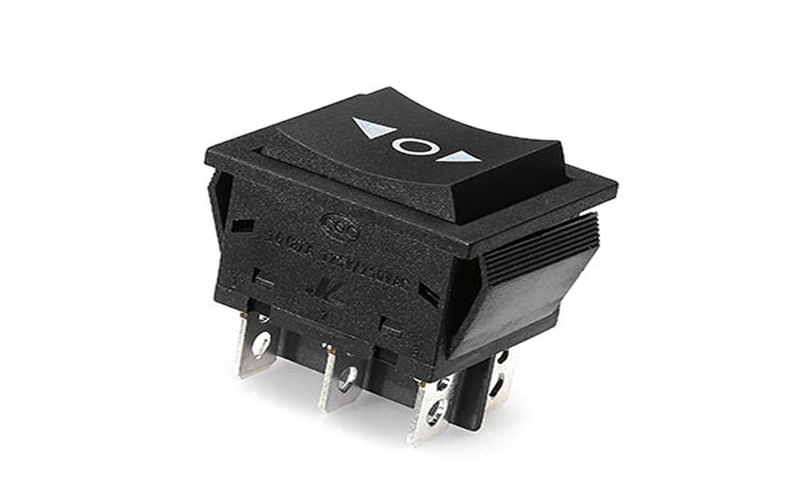Switches: (169, 55, 634, 438)
